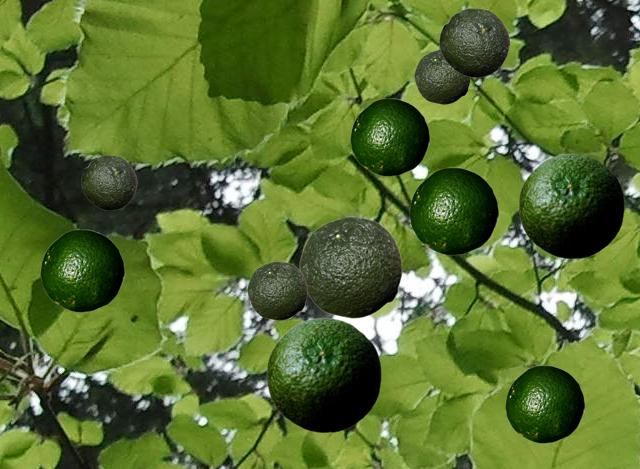calamansi: (266, 317, 380, 432), (518, 153, 623, 258), (299, 216, 401, 317), (409, 167, 498, 254), (40, 229, 124, 311), (350, 98, 429, 175), (505, 365, 584, 442), (439, 8, 509, 76), (247, 261, 306, 319), (414, 49, 469, 103), (81, 155, 136, 209)
